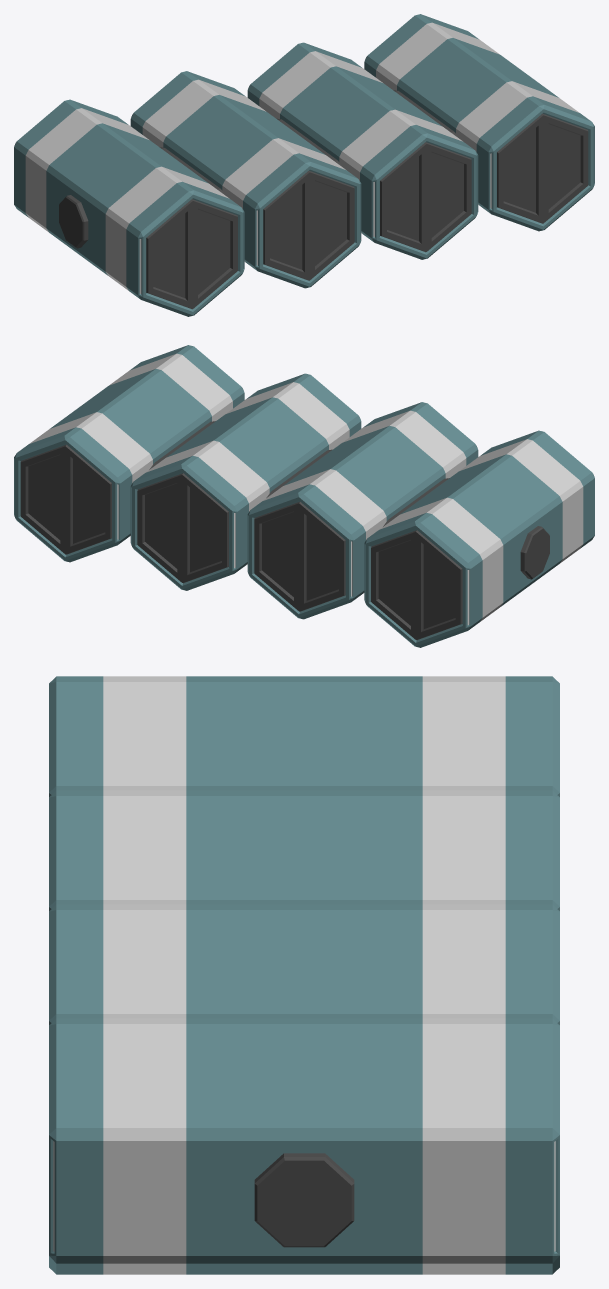
Rendered from SS_Cargo3.fbx.
3 renders of one model, top to bottom at view 1: azimuth 30°, elevation 25°; view 2: azimuth 150°, elevation 25°; view 3: azimuth 270°, elevation 25°, orthographic. The views are drawn at different scales.
Parts seen in each view (by area): view 1: Cylinder.001; view 2: Cylinder.001; view 3: Cylinder.001.
Boxes of the visible parts, <box> form: Cylinder.001: <box>14,14,594,316</box>; Cylinder.001: <box>14,345,594,647</box>; Cylinder.001: <box>49,676,559,1274</box>.
Bounding box in the file's own units: 2000 × 513 × 948.
